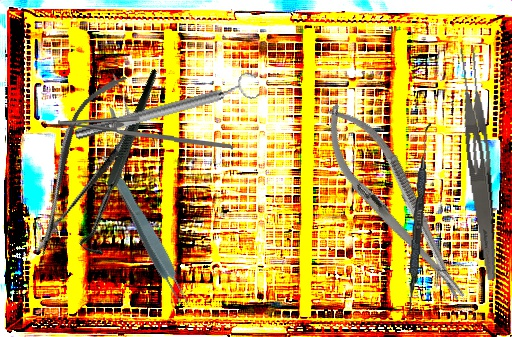Dressing Forceps: (453, 46, 508, 281)
Fixation Ring: (71, 70, 262, 148)
Hook Surgical: (25, 68, 224, 262)
Micro Scissor: (10, 63, 153, 266)
Needle Holder: (307, 92, 483, 315), (57, 106, 234, 150)
Spatula Surgical: (406, 121, 431, 316)
Tissue Forceps: (107, 171, 195, 312)
